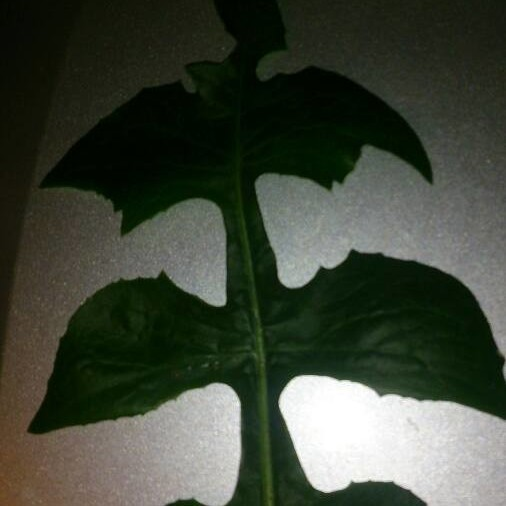obstacle: (38, 62, 457, 486)
